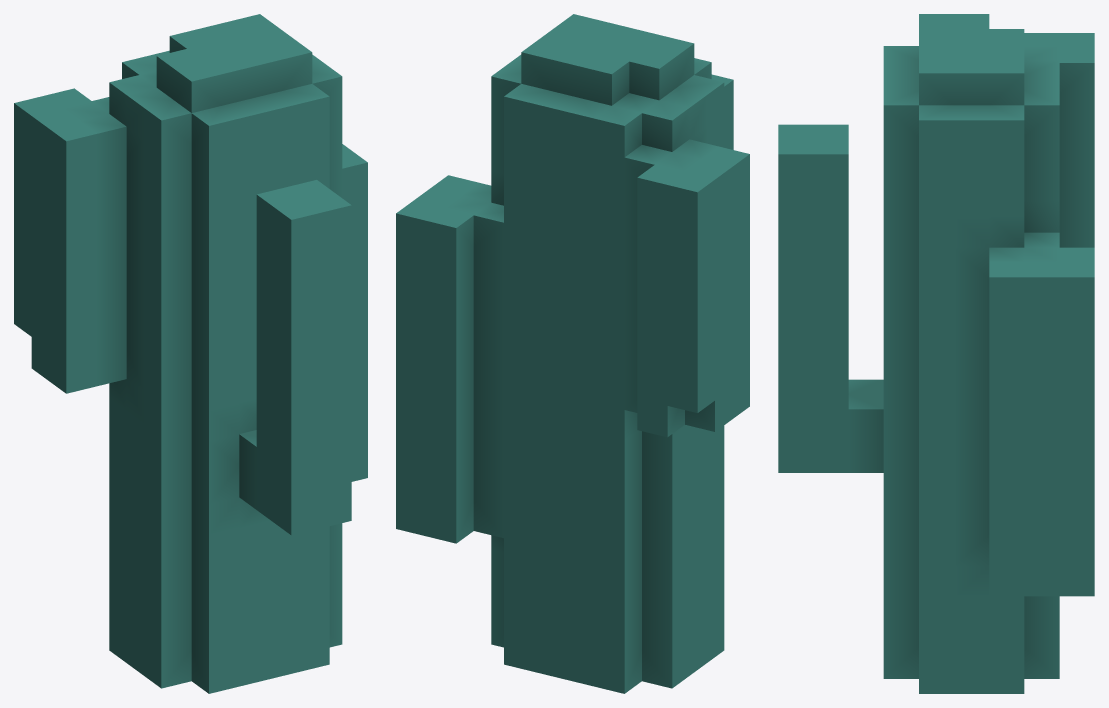
File: cactus.glb
The picture shows the model from 3 angles, left to right: view 1: azimuth 30°, elevation 25°; view 2: azimuth 150°, elevation 25°; view 3: azimuth 270°, elevation 25°; orthographic projection.
Visible parts, largest first — view 1: voxels; view 2: voxels; view 3: voxels.
Boxes of the visible parts, box(x1,y1,x2,y2) form: voxels: box(14, 14, 367, 693); voxels: box(396, 14, 749, 693); voxels: box(778, 14, 1094, 693).
Size of the model in its own units: 0.4167 by 0.7917 by 0.375.
